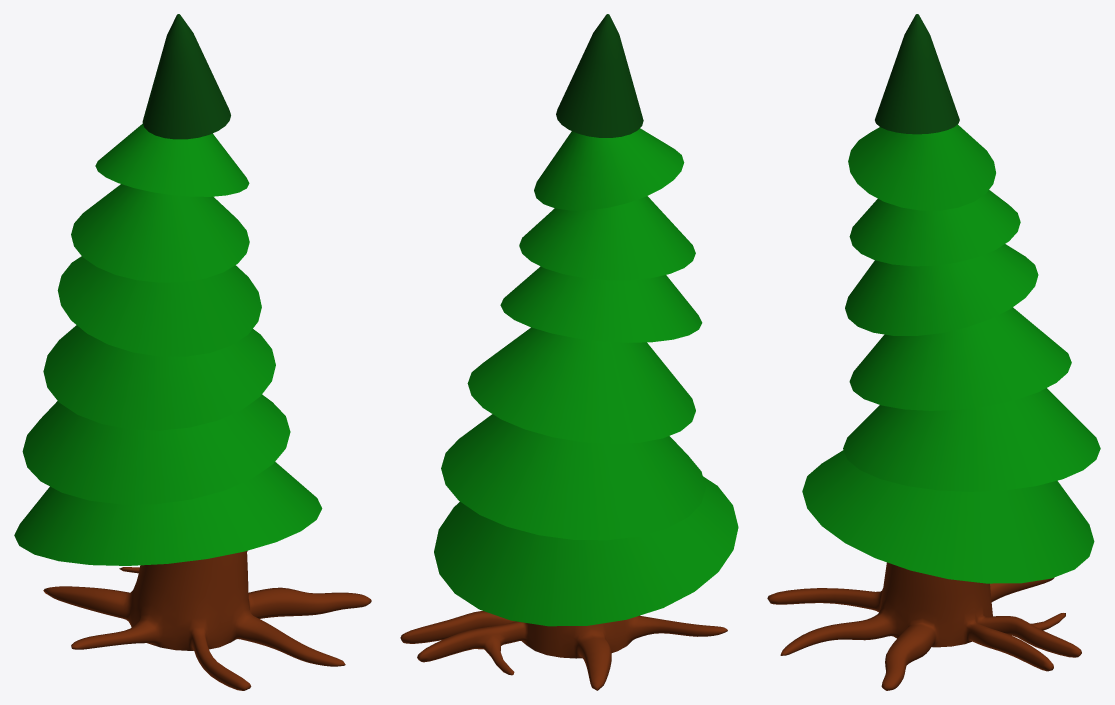
Rendered from tree_1.FBX.
3 views of the same model, side by side, from view 1: azimuth 30°, elevation 25°; view 2: azimuth 150°, elevation 25°; view 3: azimuth 270°, elevation 25° (orthographic). The views are drawn at different scales.
Parts seen in each view (by area): view 1: Cone009; view 2: Cone009; view 3: Cone009.
Boxes of the visible parts, x1,y1,x2,y2 form: Cone009: (14,14,371,690); Cone009: (400,14,738,690); Cone009: (767,14,1100,690).
Bounding box in the file's own units: 0.9028 × 1.77 × 0.8922.
